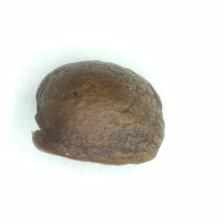NG: (32, 90, 51, 143)
